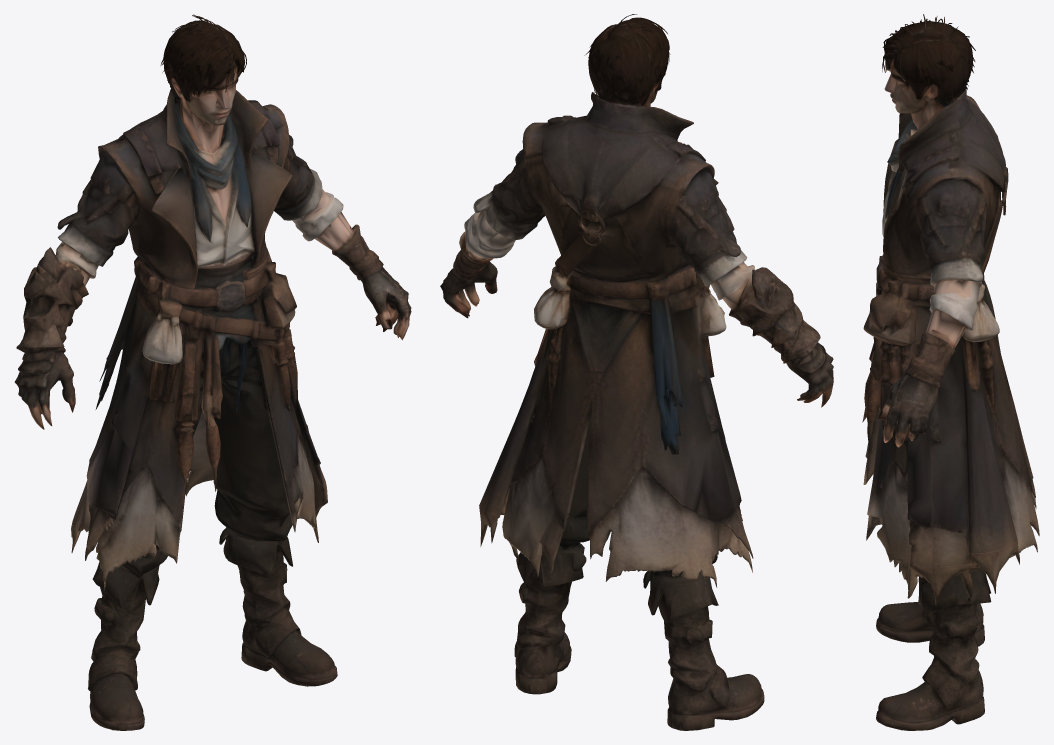
The model's file is thug.glb.
3 renders of one model, left to right at view 1: azimuth 30°, elevation 25°; view 2: azimuth 150°, elevation 25°; view 3: azimuth 270°, elevation 25°, orthographic. The views are drawn at different scales.
Parts seen in each view (by area): view 1: material; view 2: material; view 3: material.
Part boxes in pixels (x1,y1,x2,y2): material: [14, 14, 411, 730]; material: [440, 14, 833, 730]; material: [862, 14, 1039, 730].
Size of the model in its own units: 1.05 by 1.76 by 0.4266.
1 material, 1 textured.
